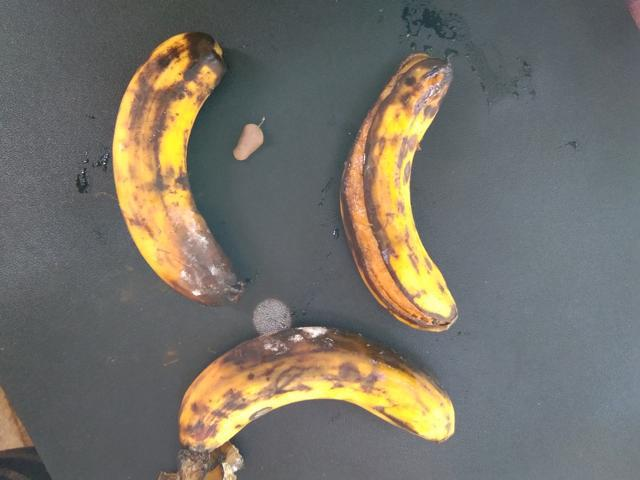rotten: (321, 44, 527, 363), (169, 313, 464, 458), (119, 12, 255, 305)
